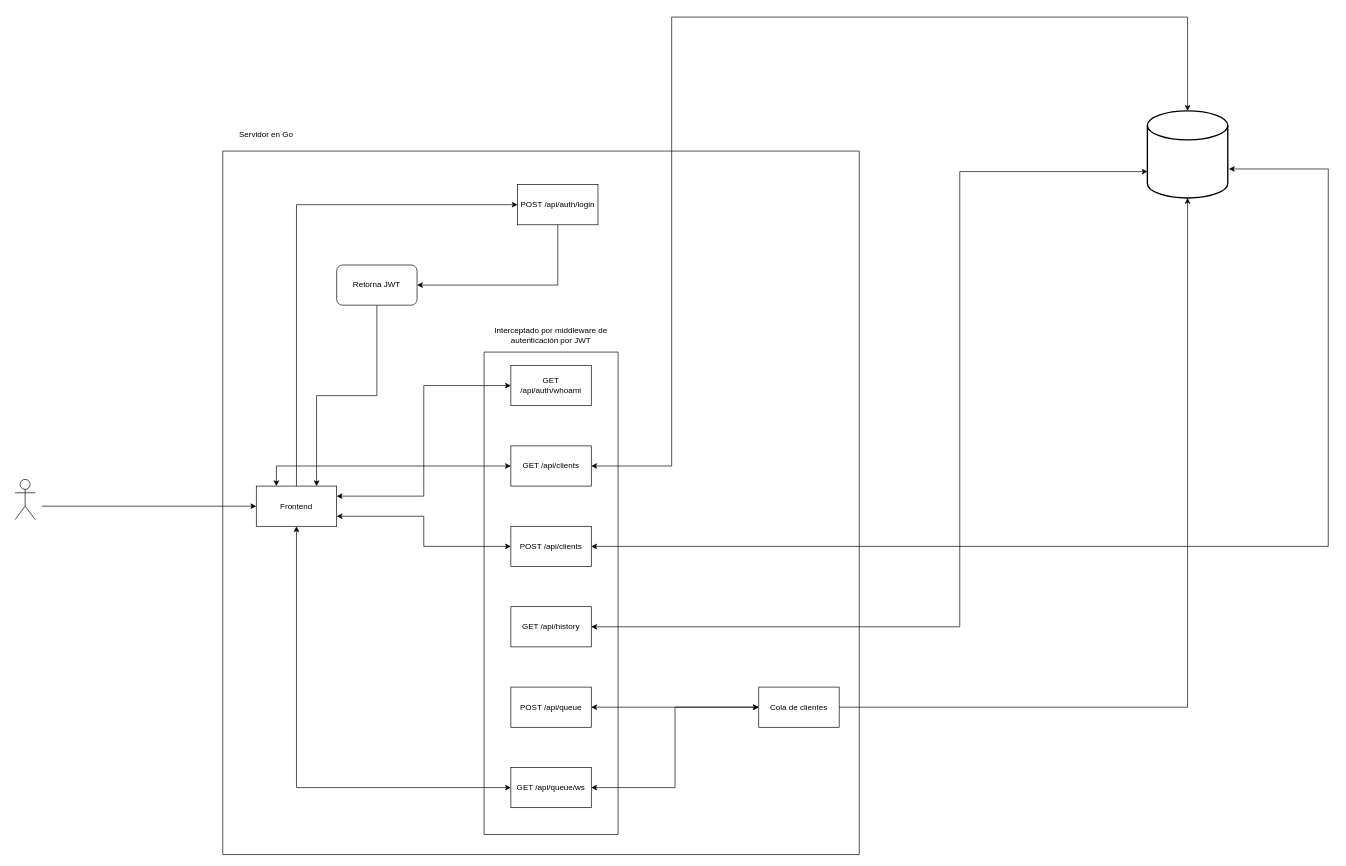
Some shapes in this 1346 by 866 pixel diagram are drawn without their labels. The centre of each missing label's shape, as x and y in pixels:
SQLite: (x=1187, y=154)
Usuario: (x=24, y=499)
Websockets: (x=540, y=502)
